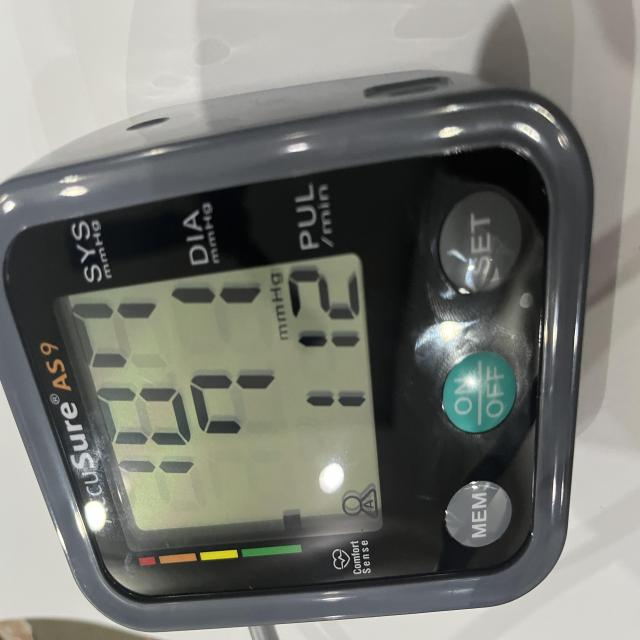bp: (0, 68, 595, 640)
